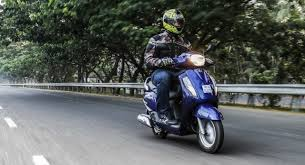with_helmet: (161, 7, 187, 35)
